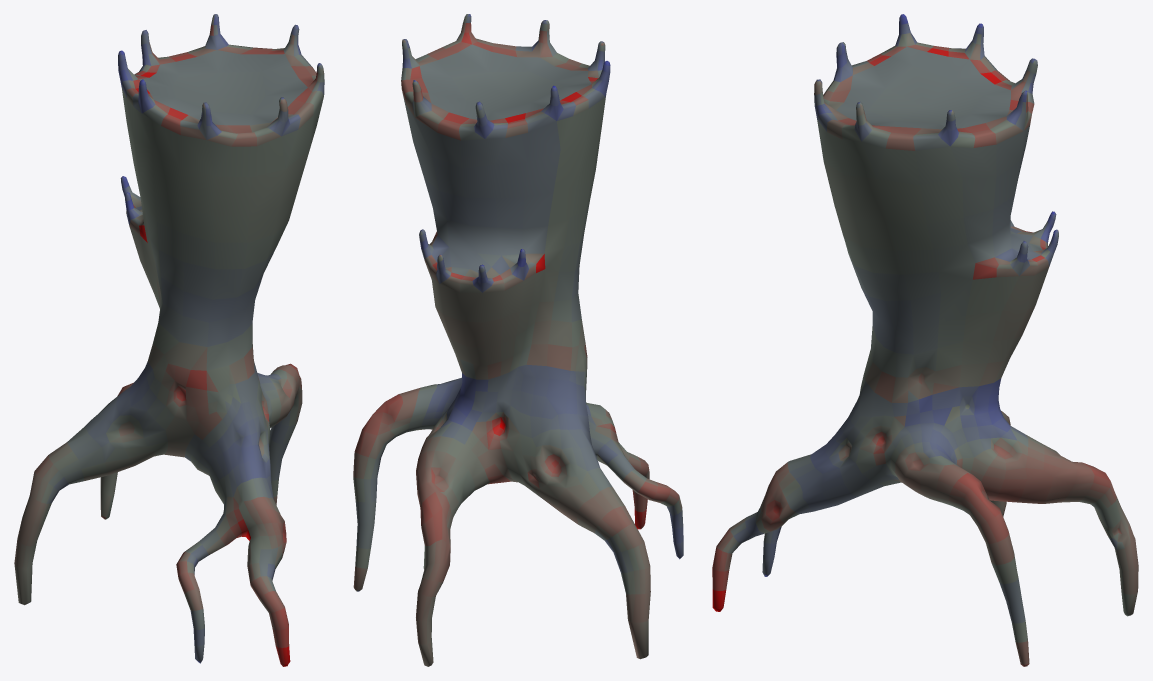
Rendered from sav_fungus_med_02.fbx.
The picture shows the model from 3 angles, left to right: view 1: azimuth 30°, elevation 25°; view 2: azimuth 150°, elevation 25°; view 3: azimuth 270°, elevation 25°; orthographic projection. The views are drawn at different scales.
Parts seen in each view (by area): view 1: sav_fungus_med_02_LOD0; view 2: sav_fungus_med_02_LOD0; view 3: sav_fungus_med_02_LOD0.
Part boxes in pixels (box(x1,y1,x2,y2)): sav_fungus_med_02_LOD0: box(14, 14, 324, 666); sav_fungus_med_02_LOD0: box(353, 14, 683, 666); sav_fungus_med_02_LOD0: box(712, 14, 1138, 666).
Size of what is drawn, in the model's own units: 5.79 by 10.42 by 7.07.
